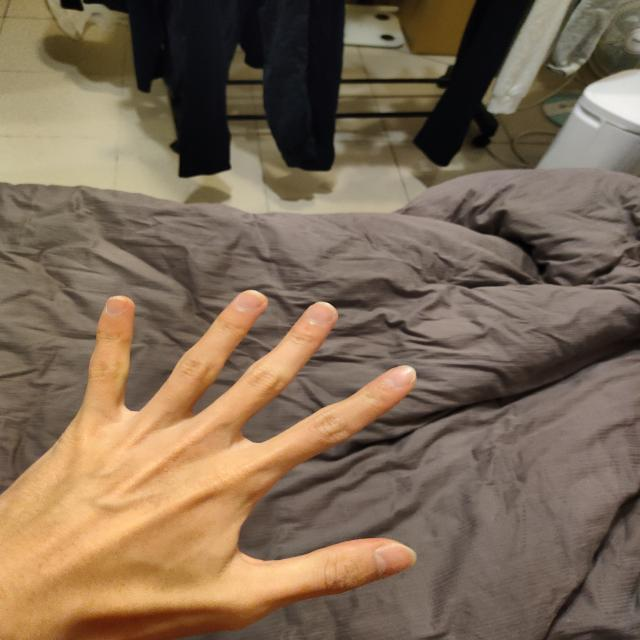hand: (4, 275, 440, 640)
